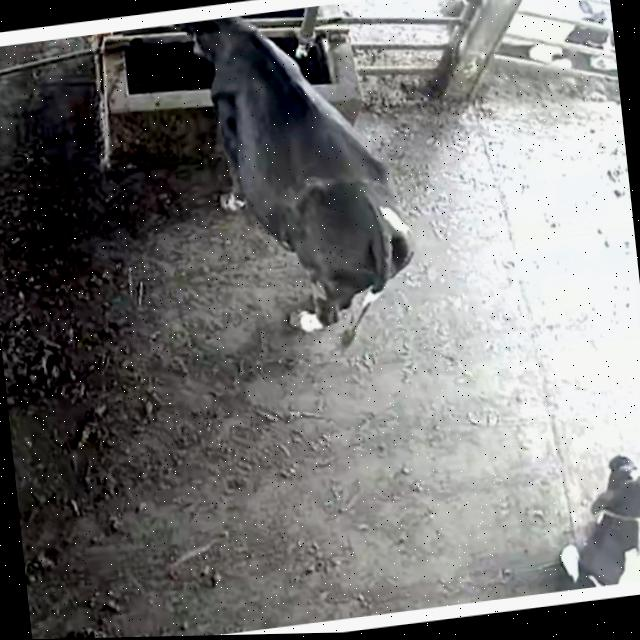drink: (162, 3, 340, 155)
